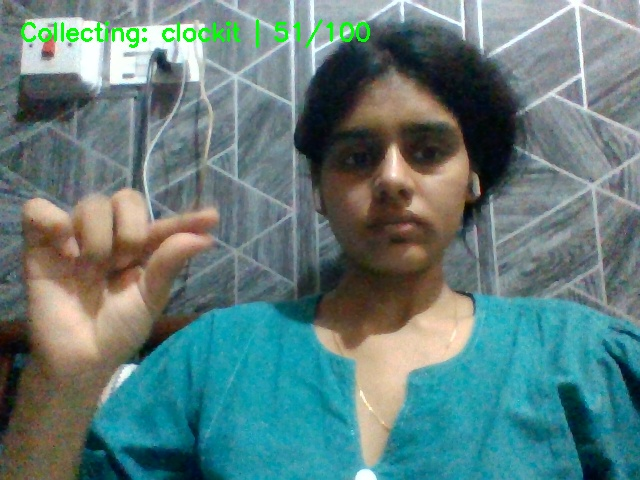clockit: (12, 179, 218, 364)
